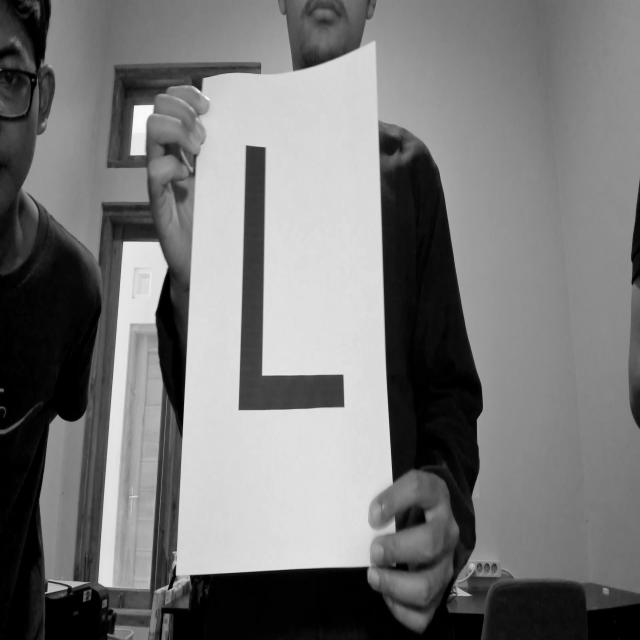l: (229, 138, 359, 455)
